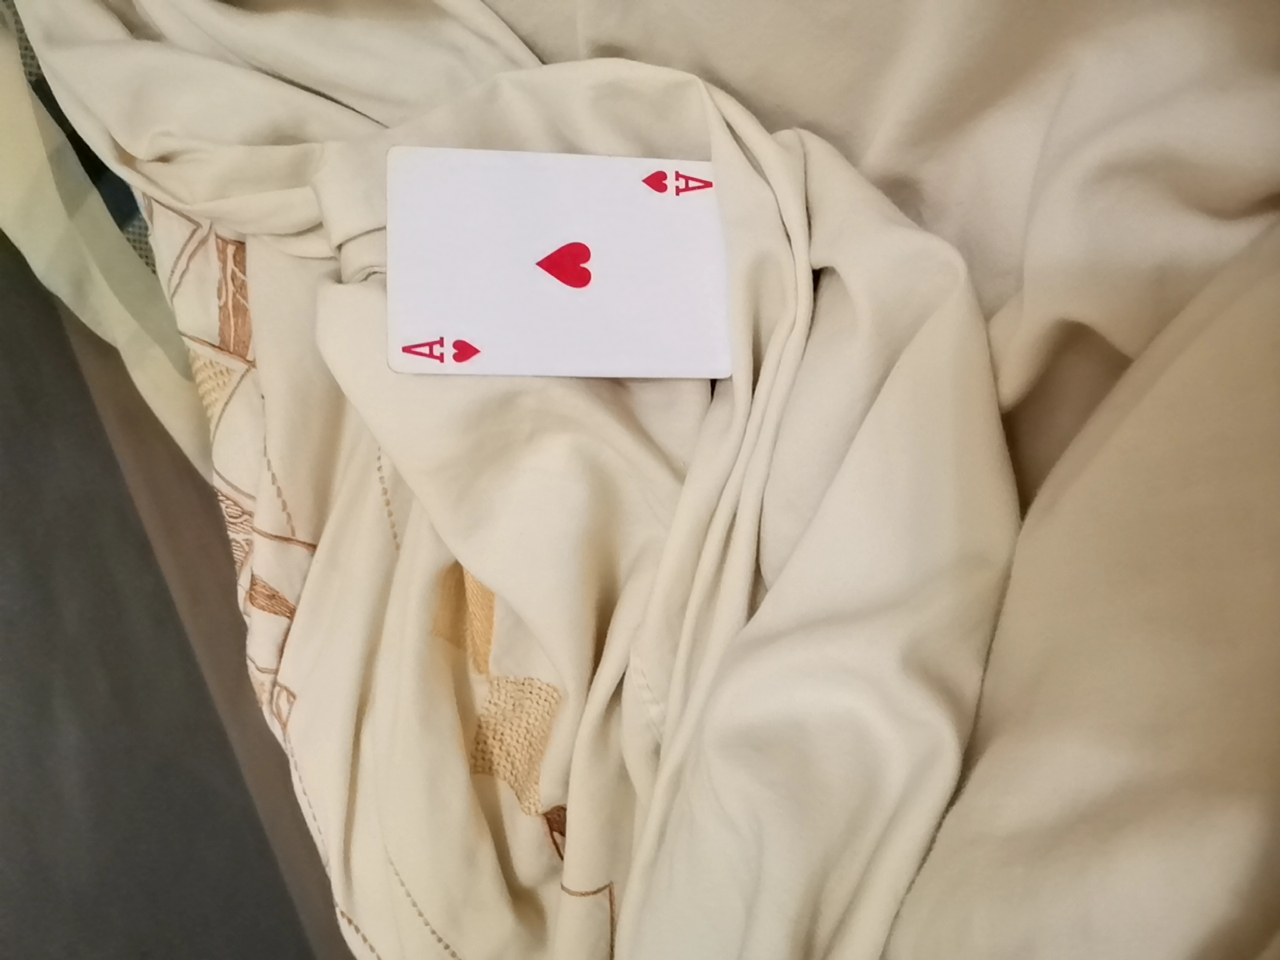hx a: (355, 134, 756, 394)
